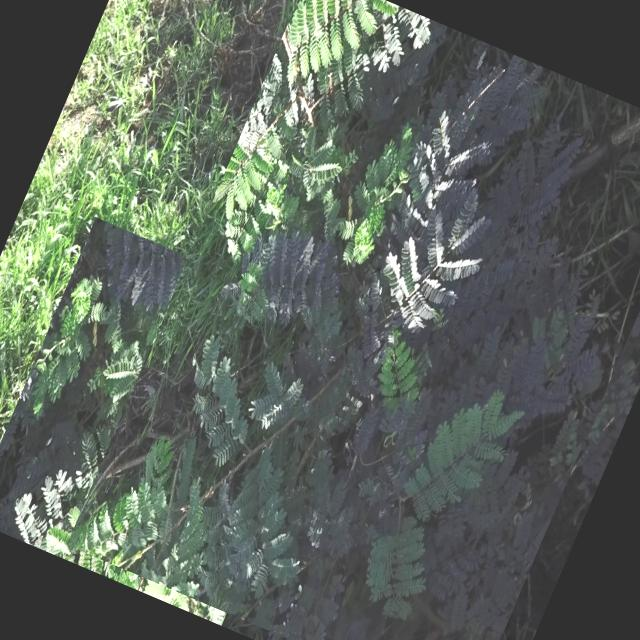Mysore-Thorn-Weed: (66, 0, 640, 640), (0, 217, 348, 626)
